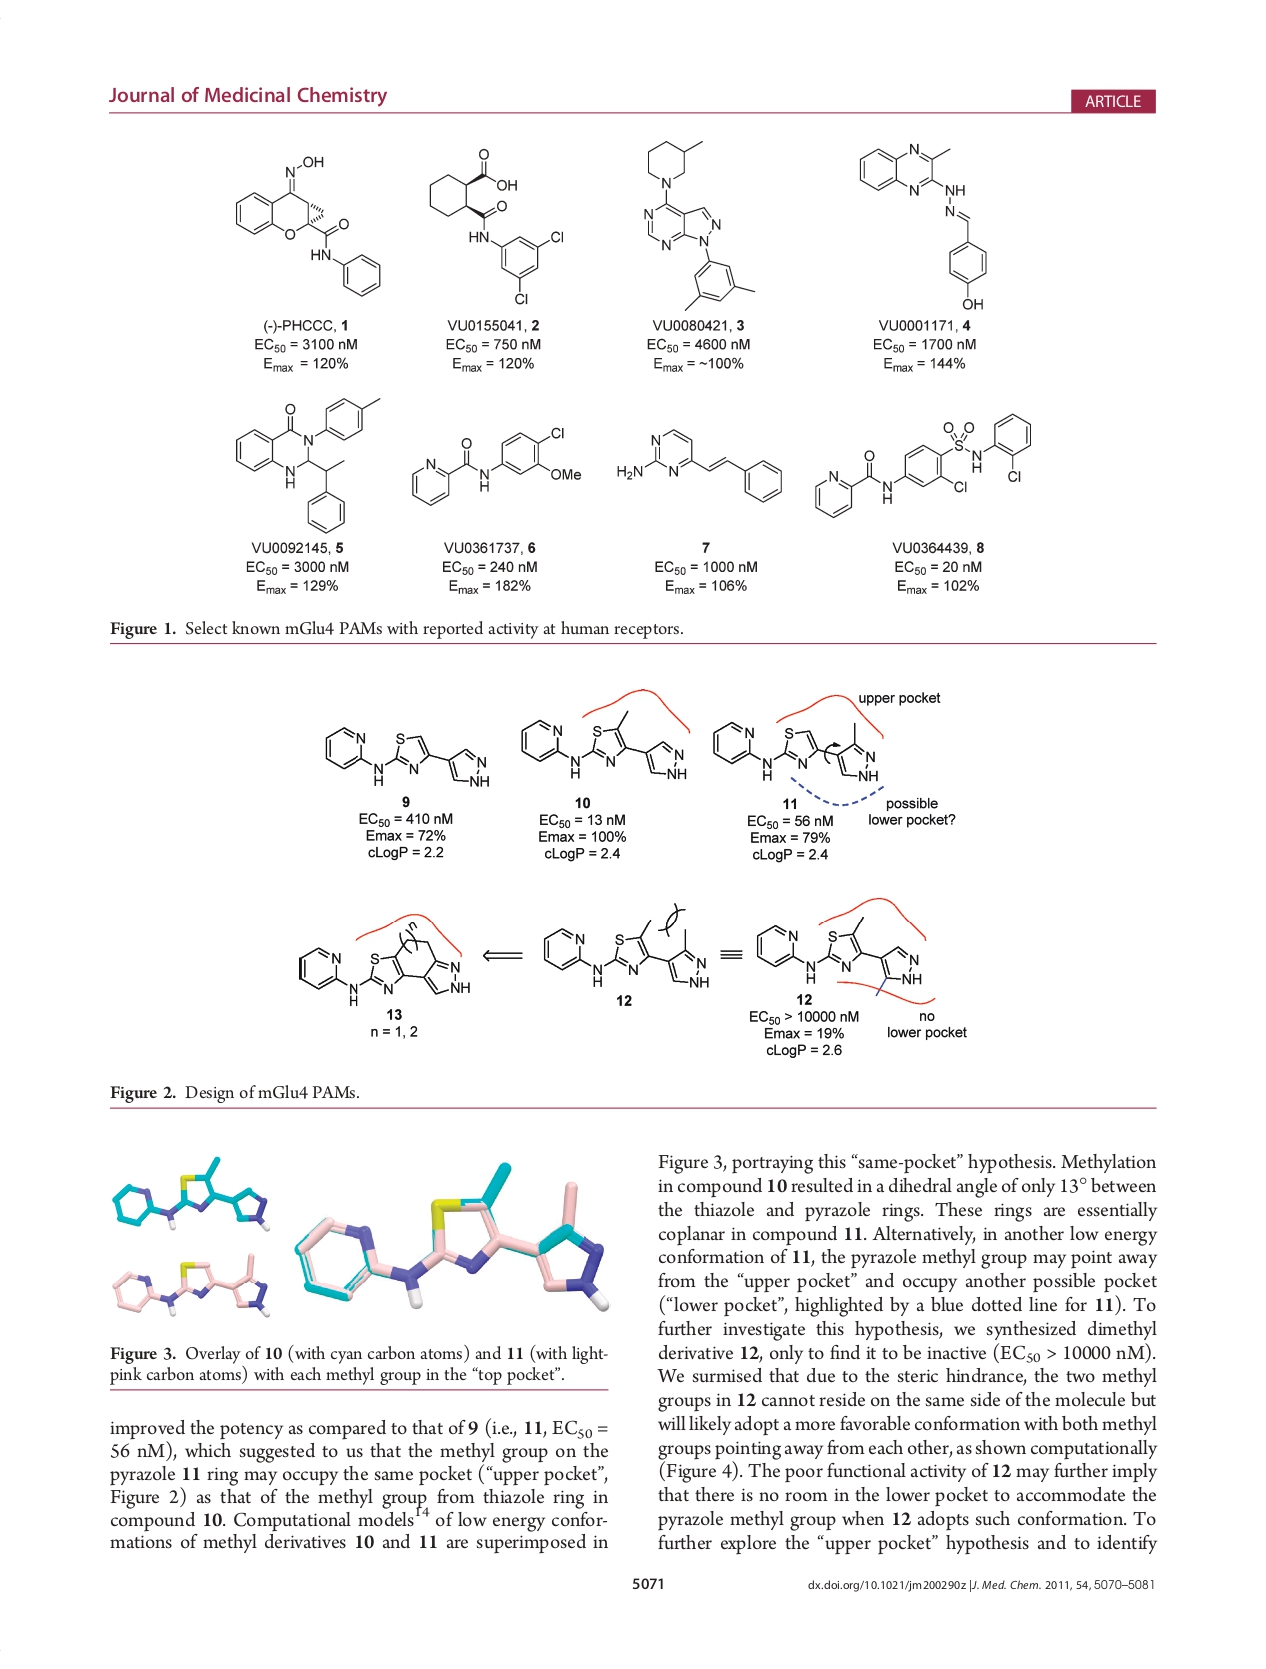exist_molecular: (810, 411, 1033, 523), (856, 134, 989, 313), (427, 144, 567, 306), (231, 394, 386, 535), (234, 156, 383, 299), (641, 134, 755, 311), (408, 424, 582, 511), (297, 920, 473, 1005), (543, 902, 711, 991), (754, 916, 924, 997), (614, 427, 786, 505), (519, 707, 689, 781), (320, 721, 491, 790), (709, 719, 880, 786)
